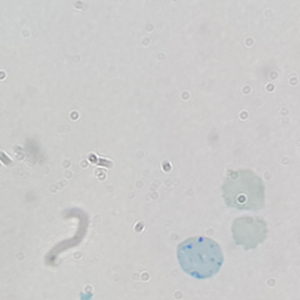aggregate reticulocyte: (175, 234, 225, 280)
erythrocyte: (219, 167, 269, 214), (229, 213, 271, 251)
